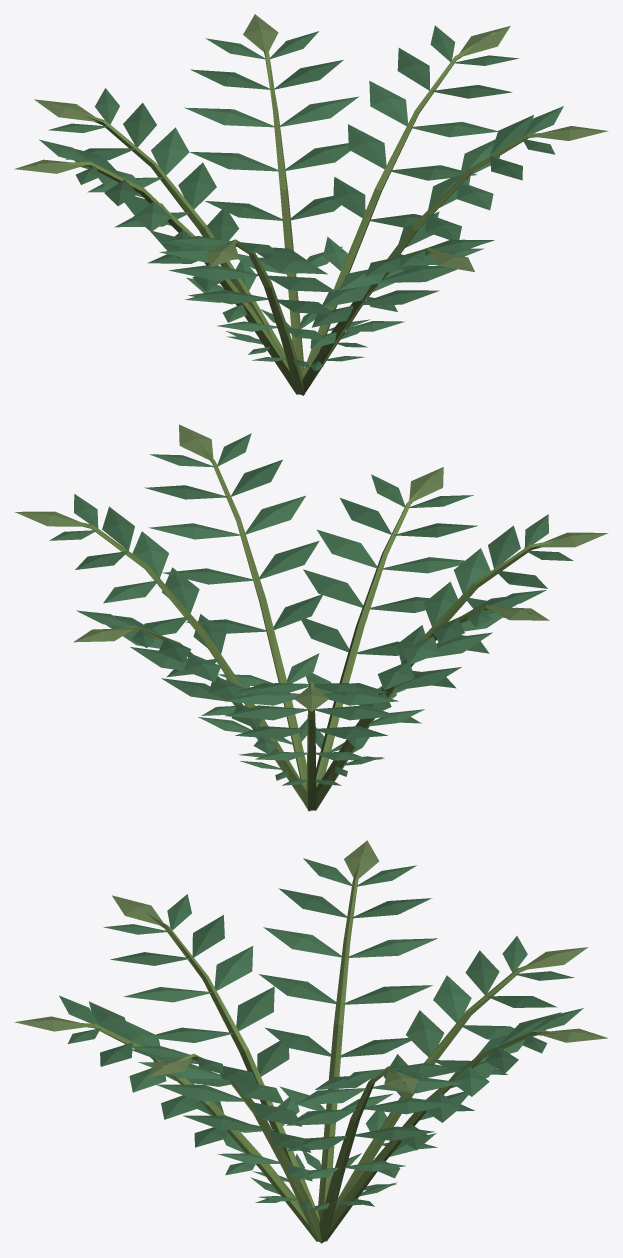
Rendered from fern_a.glb.
The picture shows the model from 3 angles, top to bottom: view 1: azimuth 30°, elevation 25°; view 2: azimuth 150°, elevation 25°; view 3: azimuth 270°, elevation 25°; orthographic projection.
Visible parts, largest first — view 1: geometry; view 2: geometry; view 3: geometry.
Boxes of the visible parts, x1,y1,x2,y2 form: geometry: (14,14,608,395); geometry: (15,424,608,811); geometry: (14,840,607,1243).
Bounding box in the file's own units: 0.8652 × 0.4358 × 0.8581.
